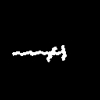double_crochet: (12, 45, 66, 61)
